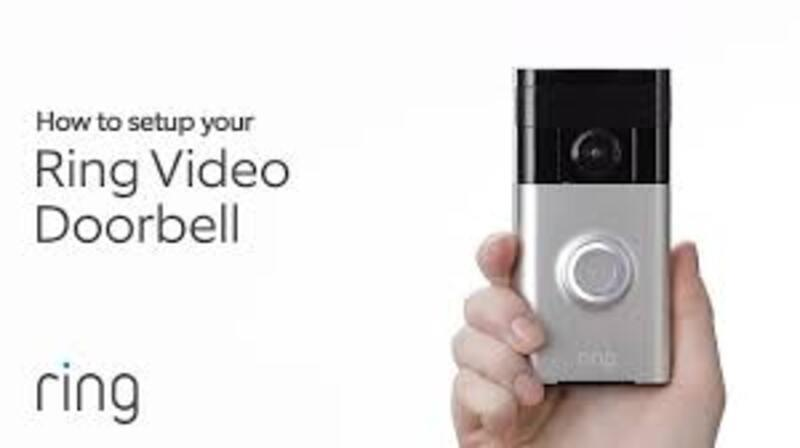doorbell: (513, 67, 670, 387)
